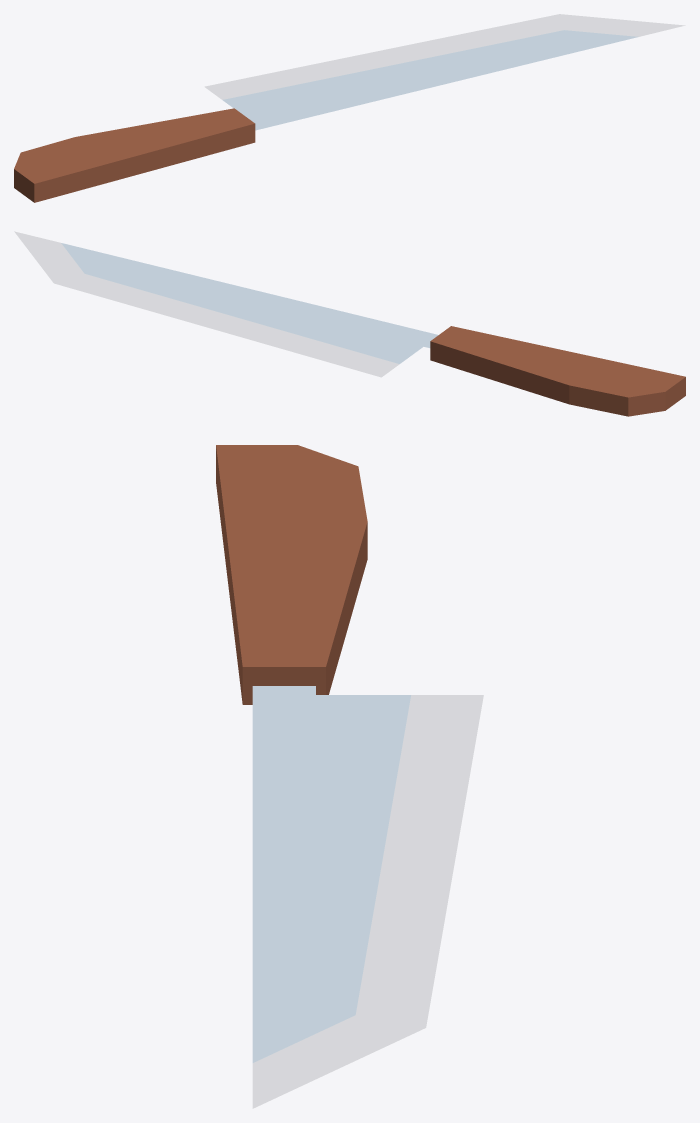
File: cookingKnife.obj
3 renders of one model, top to bottom at view 1: azimuth 30°, elevation 25°; view 2: azimuth 150°, elevation 25°; view 3: azimuth 270°, elevation 25°, orthographic. The views are drawn at different scales.
Parts seen in each view (by area): view 1: cookingKnife; view 2: cookingKnife; view 3: cookingKnife.
Boxes of the visible parts, bbox=[...] form: cookingKnife: bbox=[14, 14, 685, 202]; cookingKnife: bbox=[14, 231, 685, 416]; cookingKnife: bbox=[216, 445, 483, 1108].
Bounding box in the file's own units: 0.7262 × 0.02 × 0.1275.
